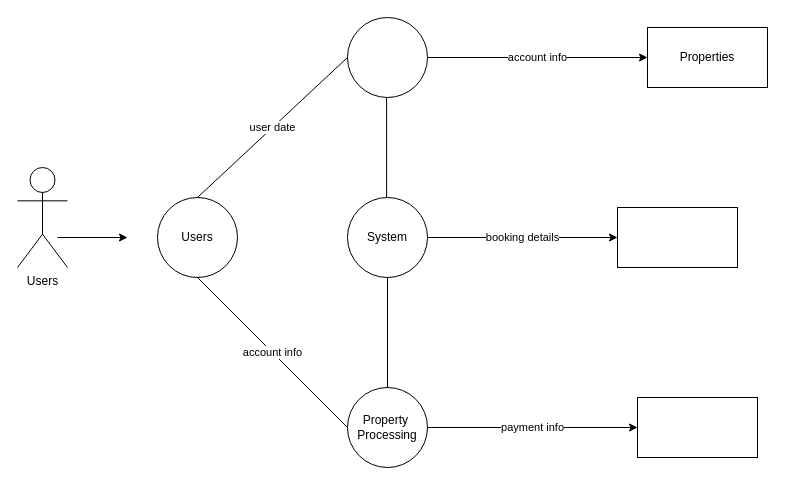
The diagram is 785 pixels wide and 485 high, and some of its shapes have lost their labels. Here are the shapes that lost their labels. From the top down, the centre of each, then its label:
At point 387,57: "Register/ Login".
At point 677,237: "Bookings".
At point 697,427: "Payments".
